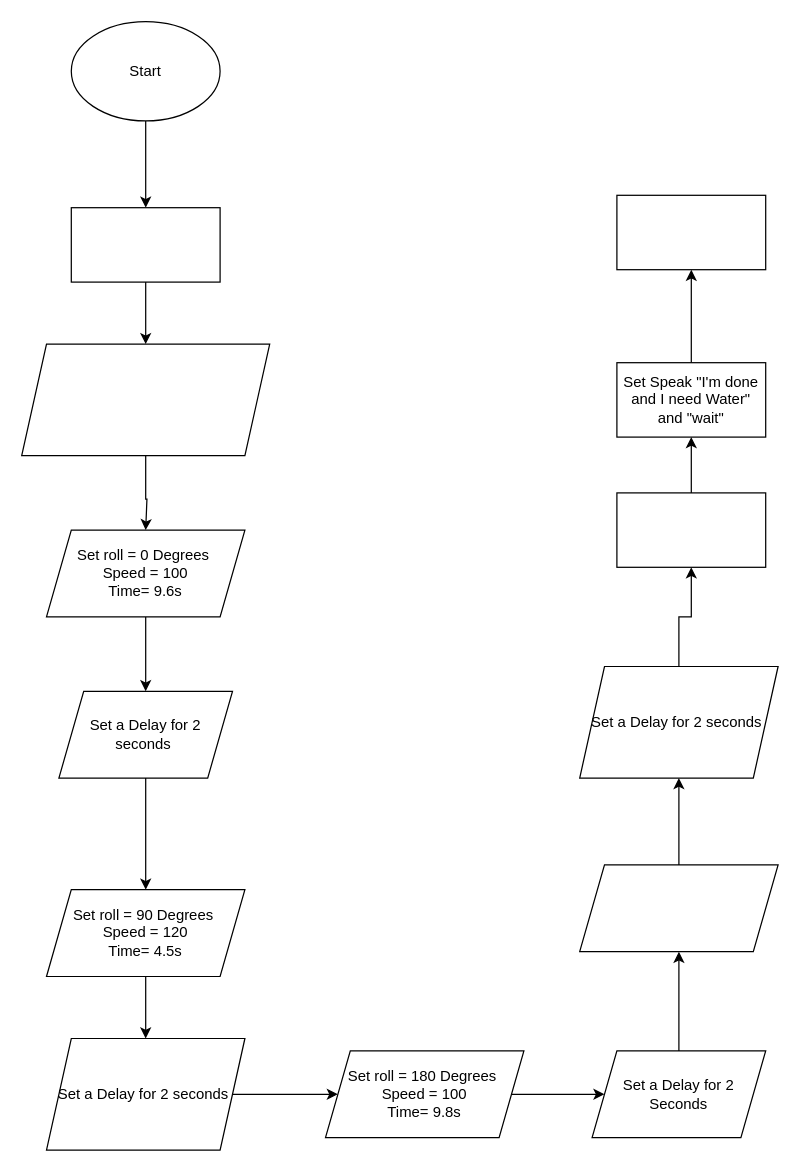
Image size: 800x1172. Some labels were removed from this diagram. The shapes that lost their labels are listed below. From the top down, each one's centre as x and y in pixels, then its label:
[145,244]: Set Main LED to Green
[691,232]: Set Main LED to Red
[145,399]: Set Speak "Ready, Set, Go! and "wait"
[691,529]: Stop
[678,908]: Set roll = 270 Degrees Speed = 120 Time= 4.5s
